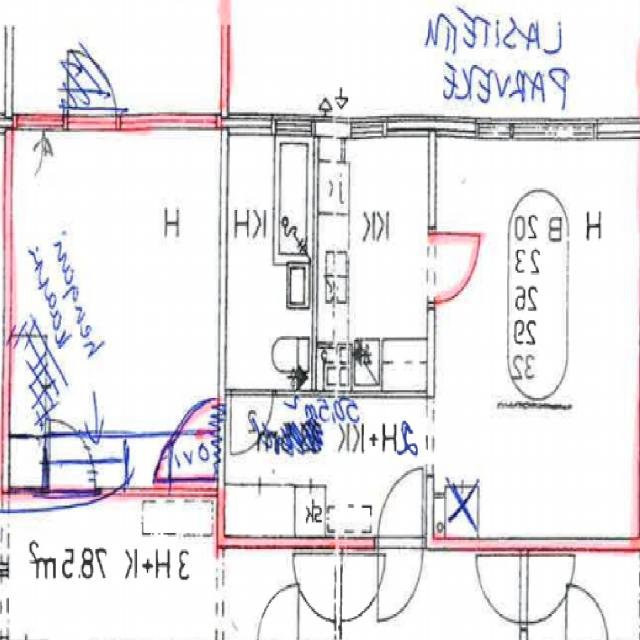door: (449, 36, 504, 137), (164, 401, 226, 478), (428, 233, 484, 302), (228, 473, 272, 548), (228, 537, 272, 612), (232, 390, 274, 459)
